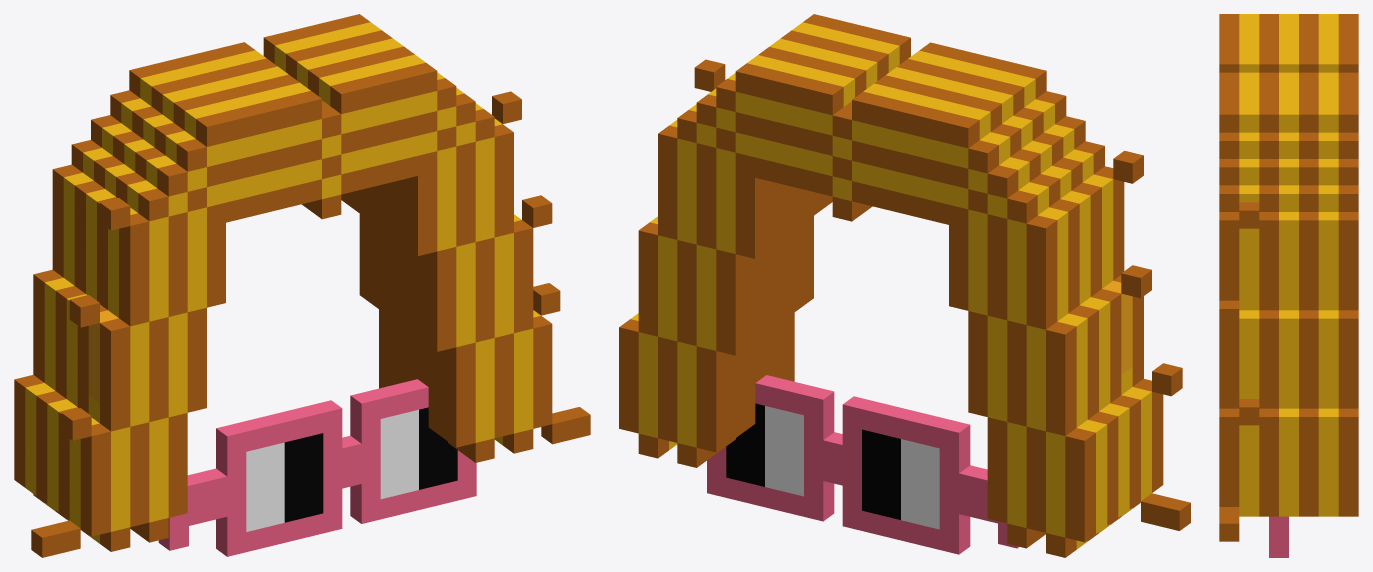
The model's file is hair.glb.
3 renders of one model, left to right at view 1: azimuth 30°, elevation 25°; view 2: azimuth 150°, elevation 25°; view 3: azimuth 270°, elevation 25°, orthographic. The views are drawn at different scales.
Visible parts, largest first — view 1: base, glasses, layer-2; view 2: base, glasses, layer-2; view 3: base, glasses.
Part boxes in pixels (x1,y1,x2,y2): base: (14, 14, 590, 557); glasses: (158, 379, 476, 556); layer-2: (246, 407, 457, 531); base: (619, 14, 1190, 557); glasses: (707, 375, 1019, 554); layer-2: (726, 403, 939, 529); base: (1219, 14, 1358, 541); glasses: (1269, 516, 1288, 557).
Bounding box in the file's own units: 28 × 23 × 7.
7 materials, 7 textured.
